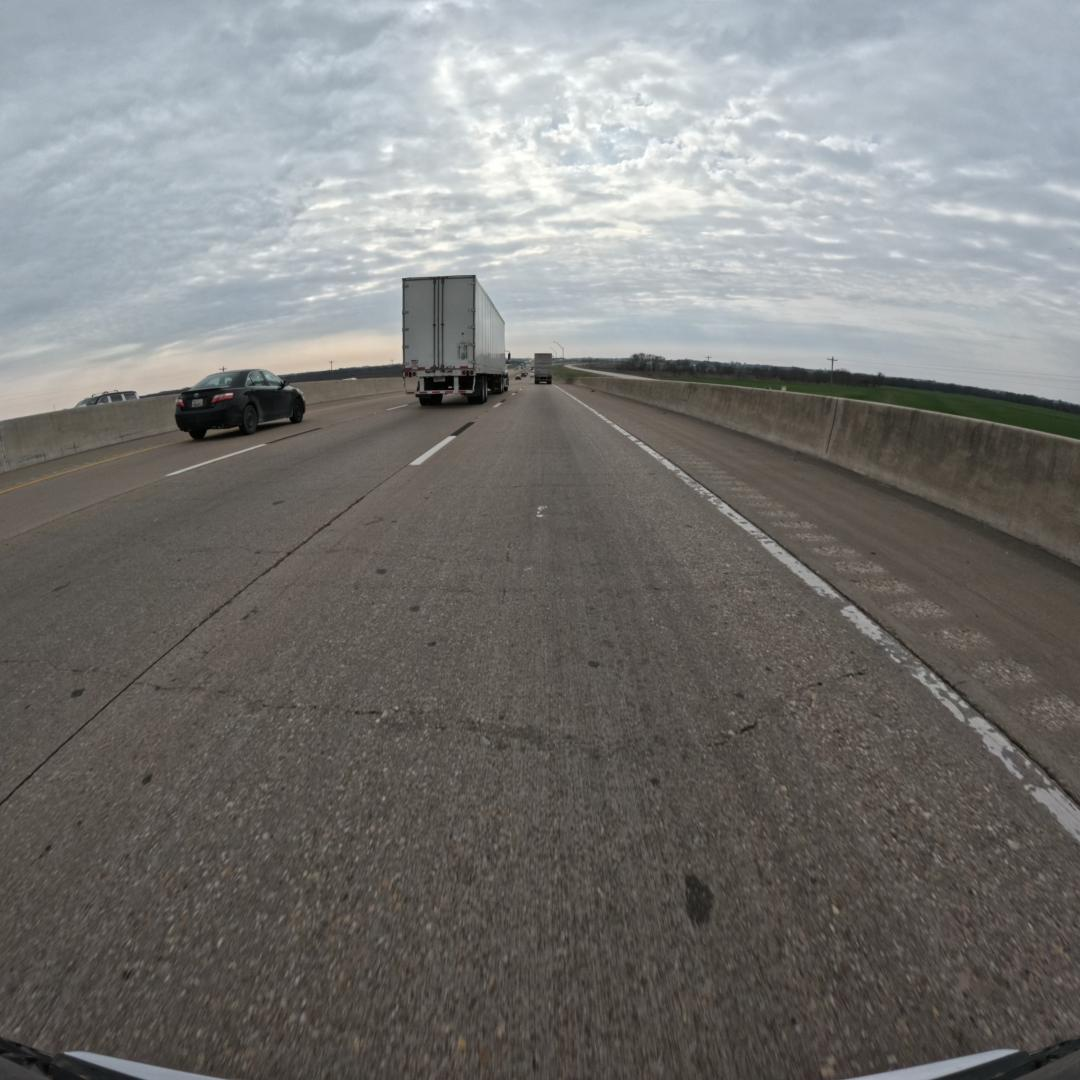lane0: (0, 387, 1080, 1077)
lane1: (0, 402, 480, 803)
